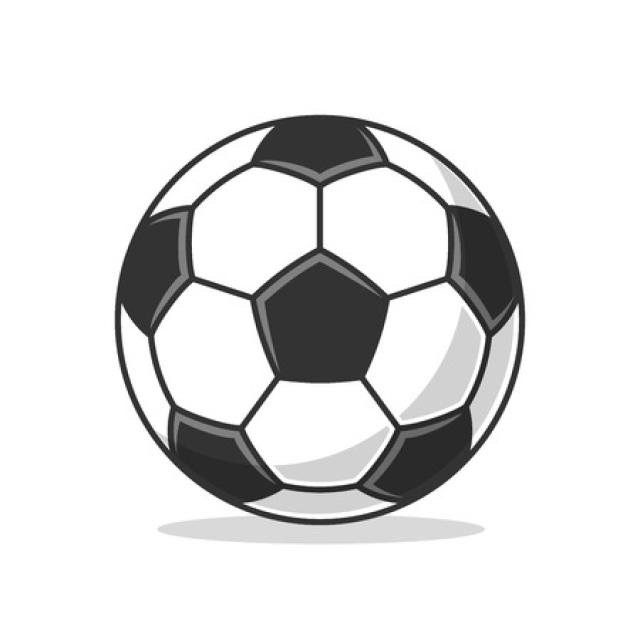soccer ball: (116, 116, 524, 524)
